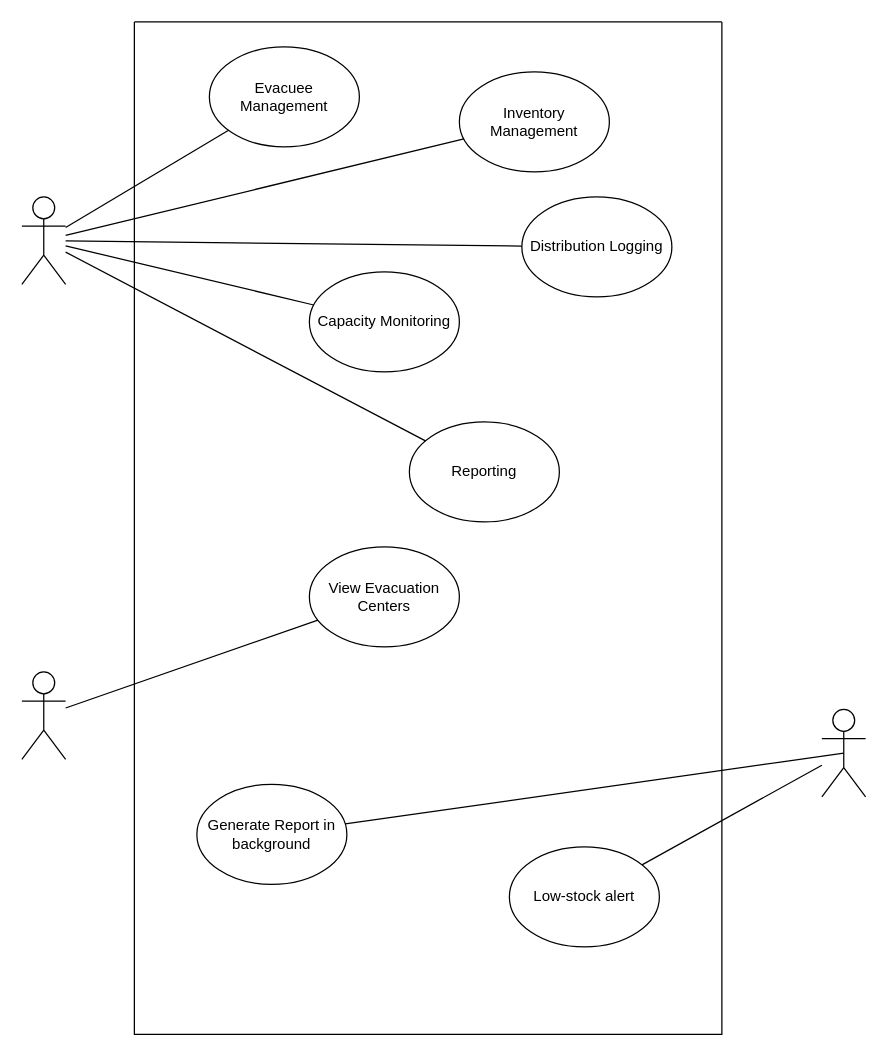
This 890x1056 diagram has some shape labels left out. Each missing label, with the centre of its shape:
"Staff" goes at (x=43, y=240).
"System" goes at (x=843, y=752).
"User" goes at (x=43, y=715).
